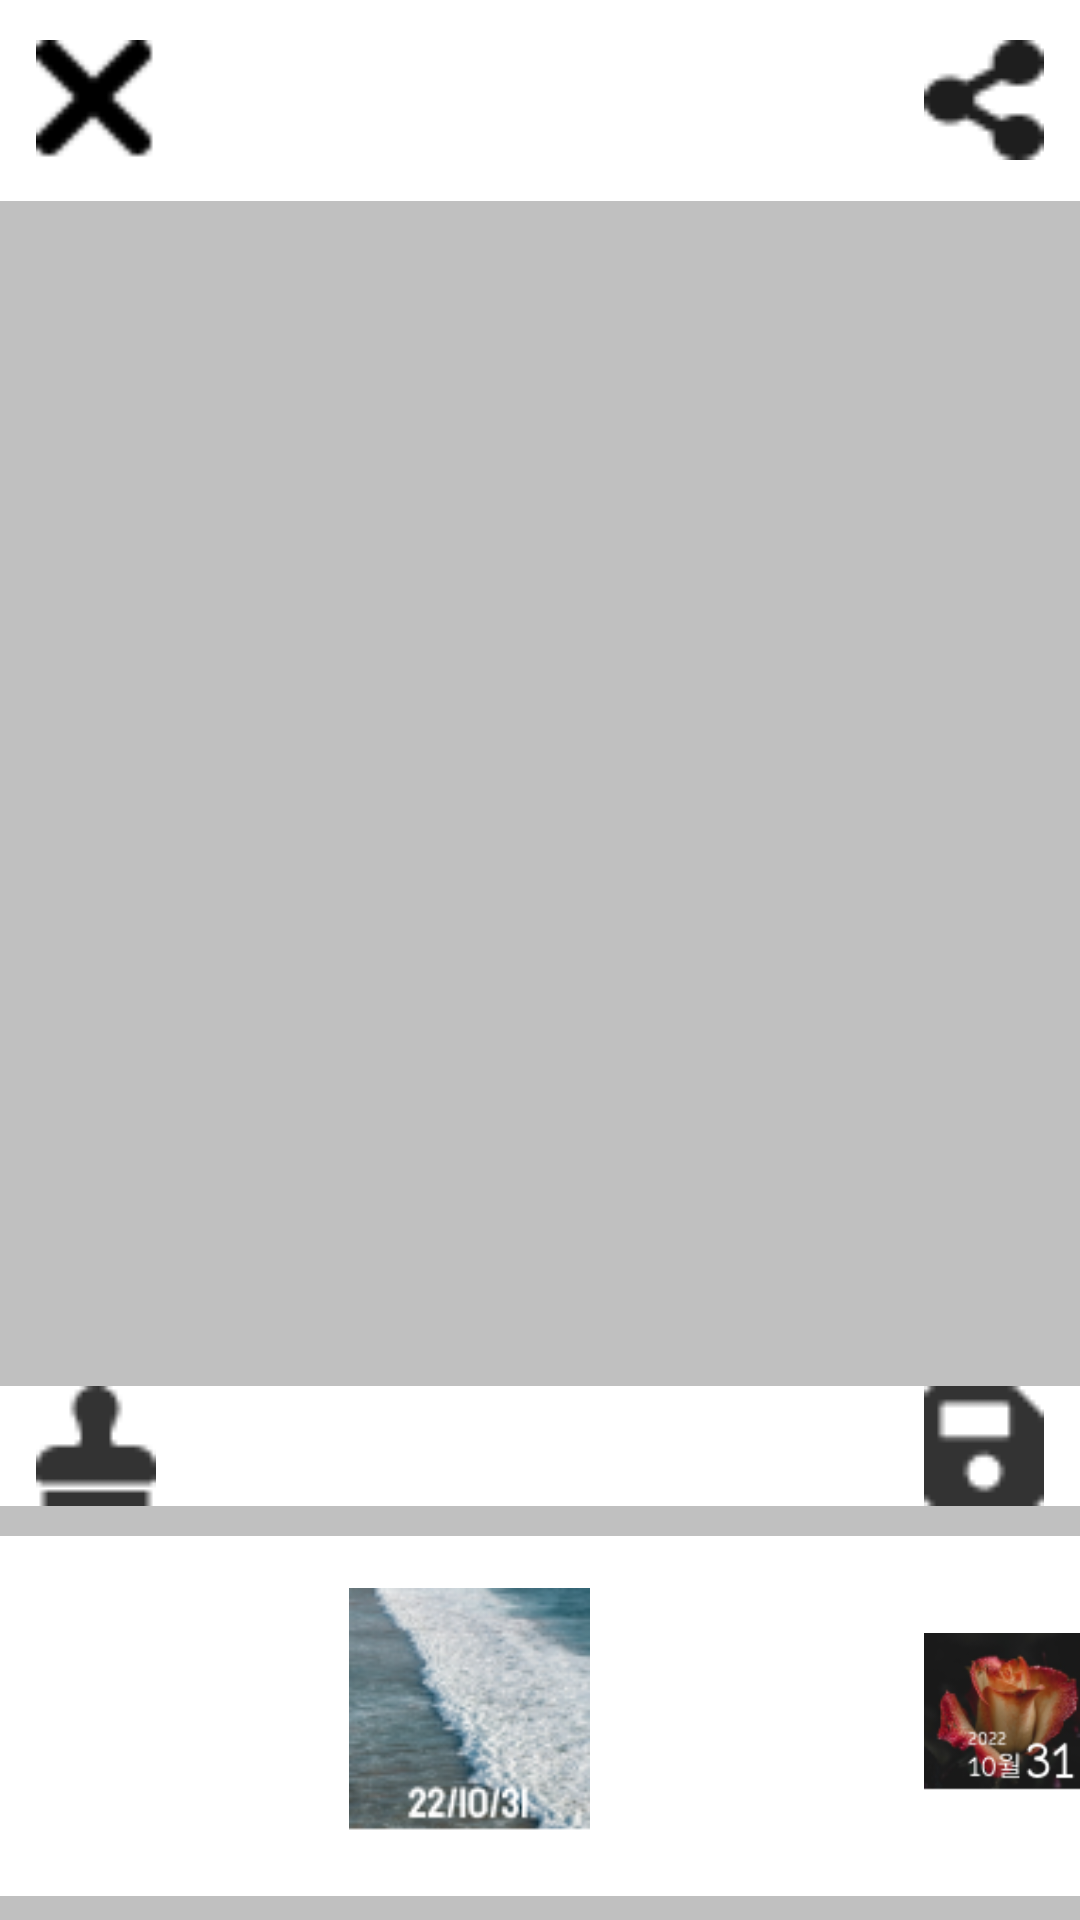

Named icons in this screenshot (1080px×1920px) and their centers, (x=x, y=y):
saveicon: (x=984, y=1446)
shareicon: (x=984, y=100)
stampicon: (x=96, y=1446)
xicon: (x=94, y=98)
